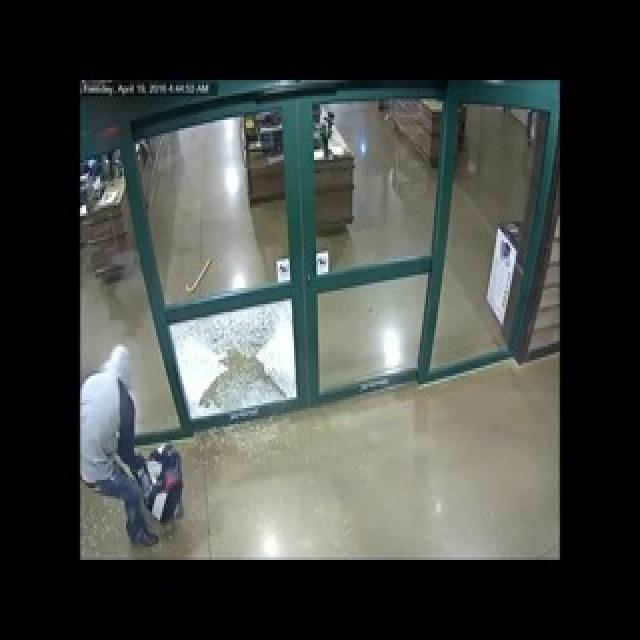burglary: (99, 319, 292, 482)
